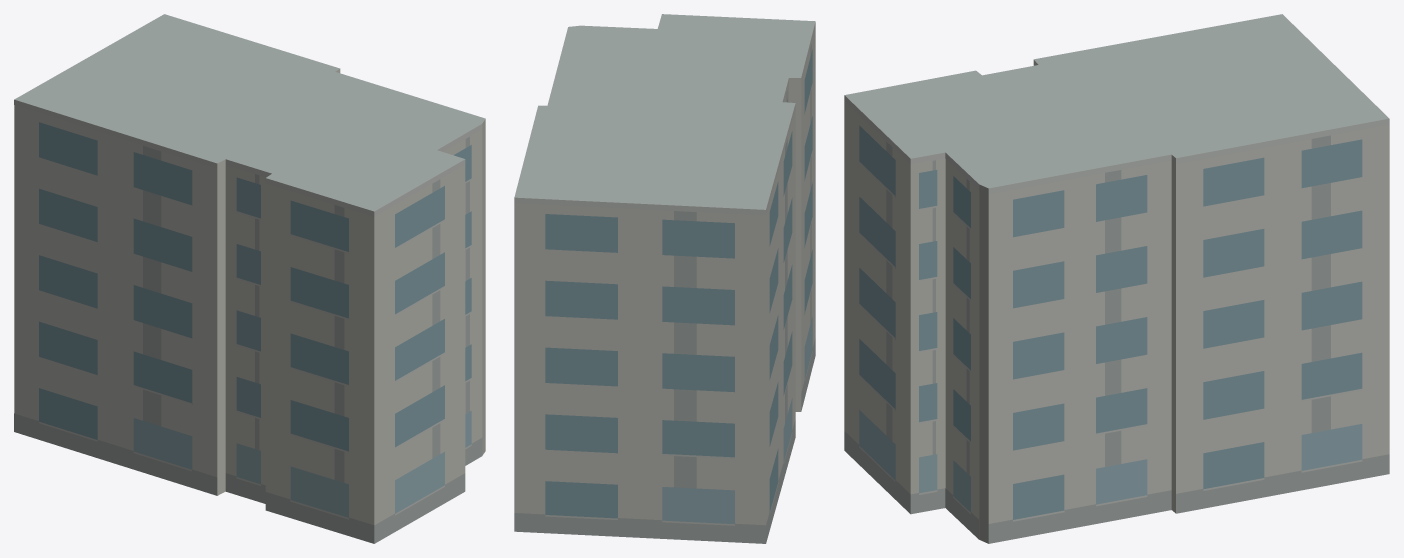
The model's file is survey-upis-32898031.glb.
3 views of the same model, side by side, from view 1: azimuth 30°, elevation 25°; view 2: azimuth 150°, elevation 25°; view 3: azimuth 270°, elevation 25° (orthographic). The views are drawn at different scales.
Parts seen in each view (by area): view 1: survey-upis-32898031.tmp; view 2: survey-upis-32898031.tmp; view 3: survey-upis-32898031.tmp.
Part boxes in pixels (x1,y1,x2,y2): survey-upis-32898031.tmp: (14, 14, 485, 543); survey-upis-32898031.tmp: (514, 14, 815, 543); survey-upis-32898031.tmp: (844, 14, 1389, 543).
Size of the model in its own units: 15.31 by 14.54 by 20.22.
